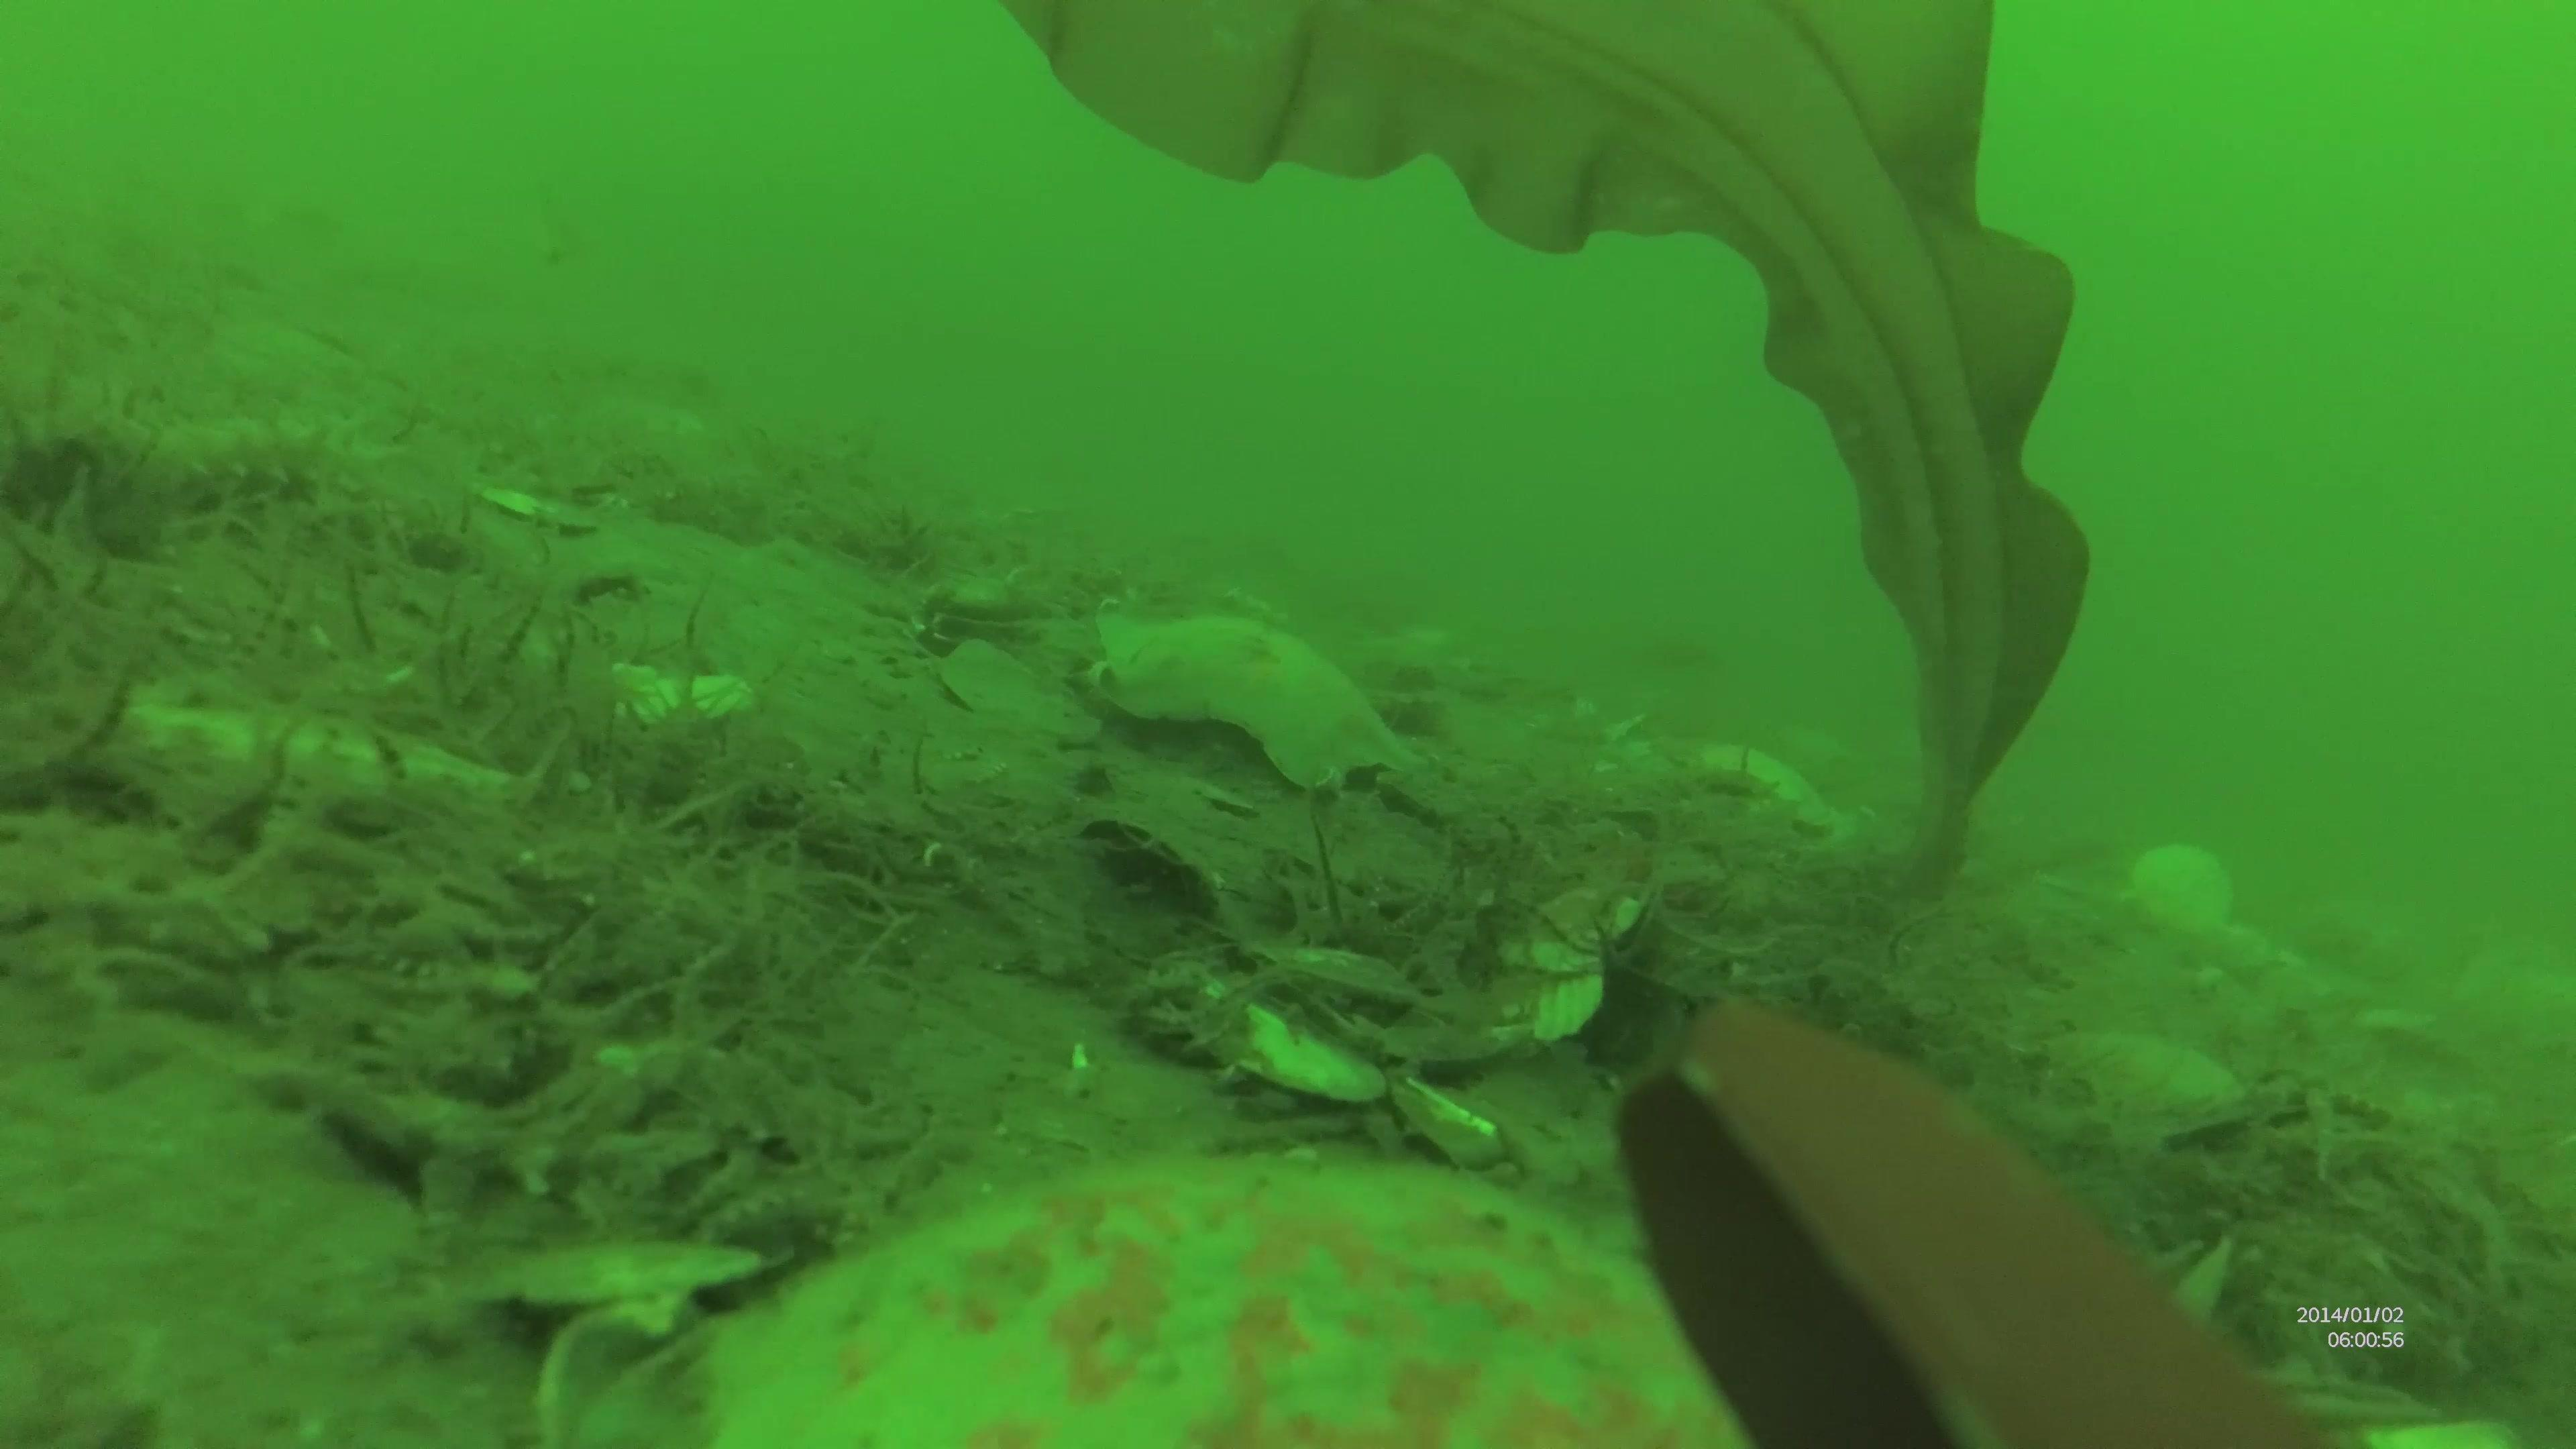starfish: (1093, 591, 1424, 796)
